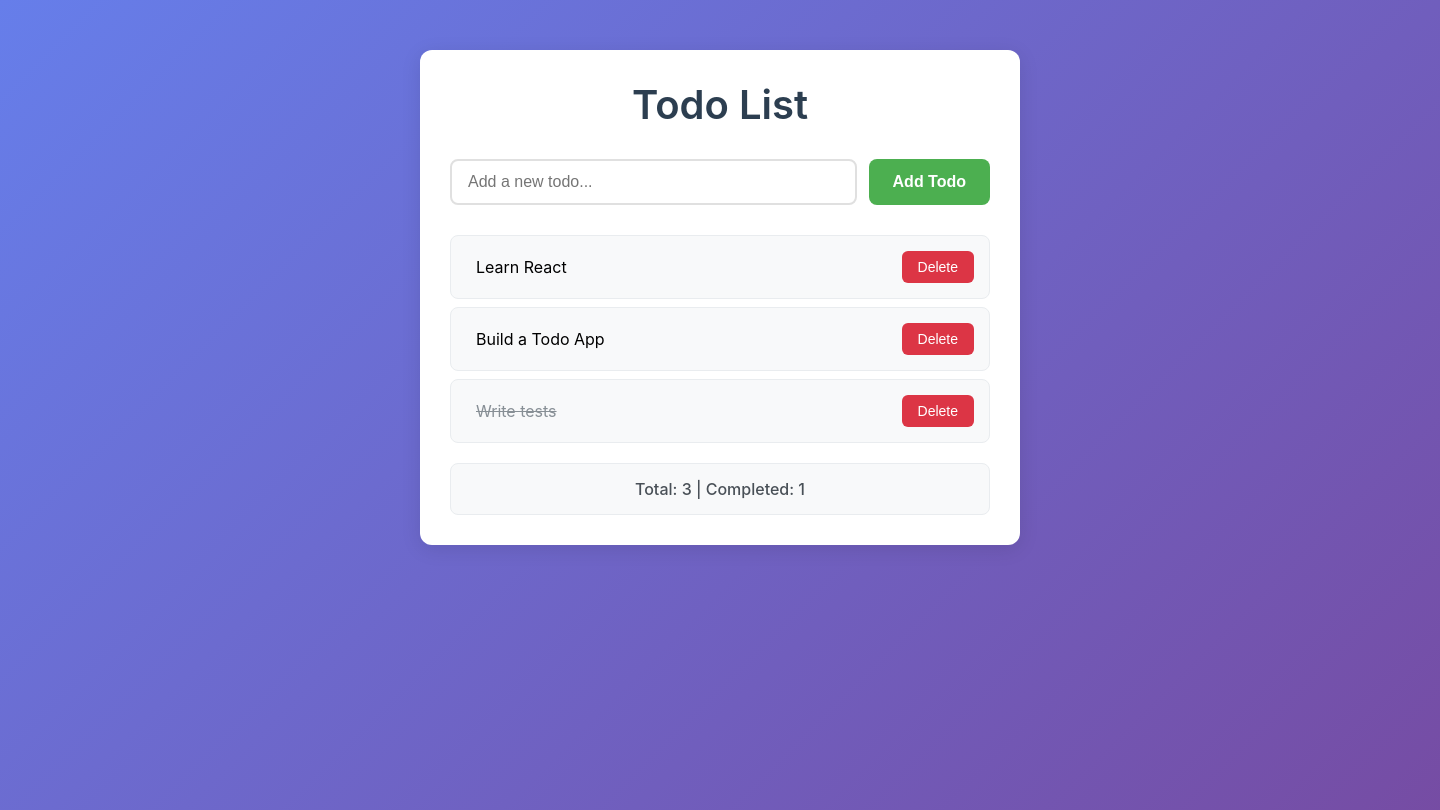
Test: TodoList Component › Adding Todos › updates stats after adding a todo
Type "New Todo" into the field with test id "todo-input" at coordinates (653, 182), box [450,159,856,205]
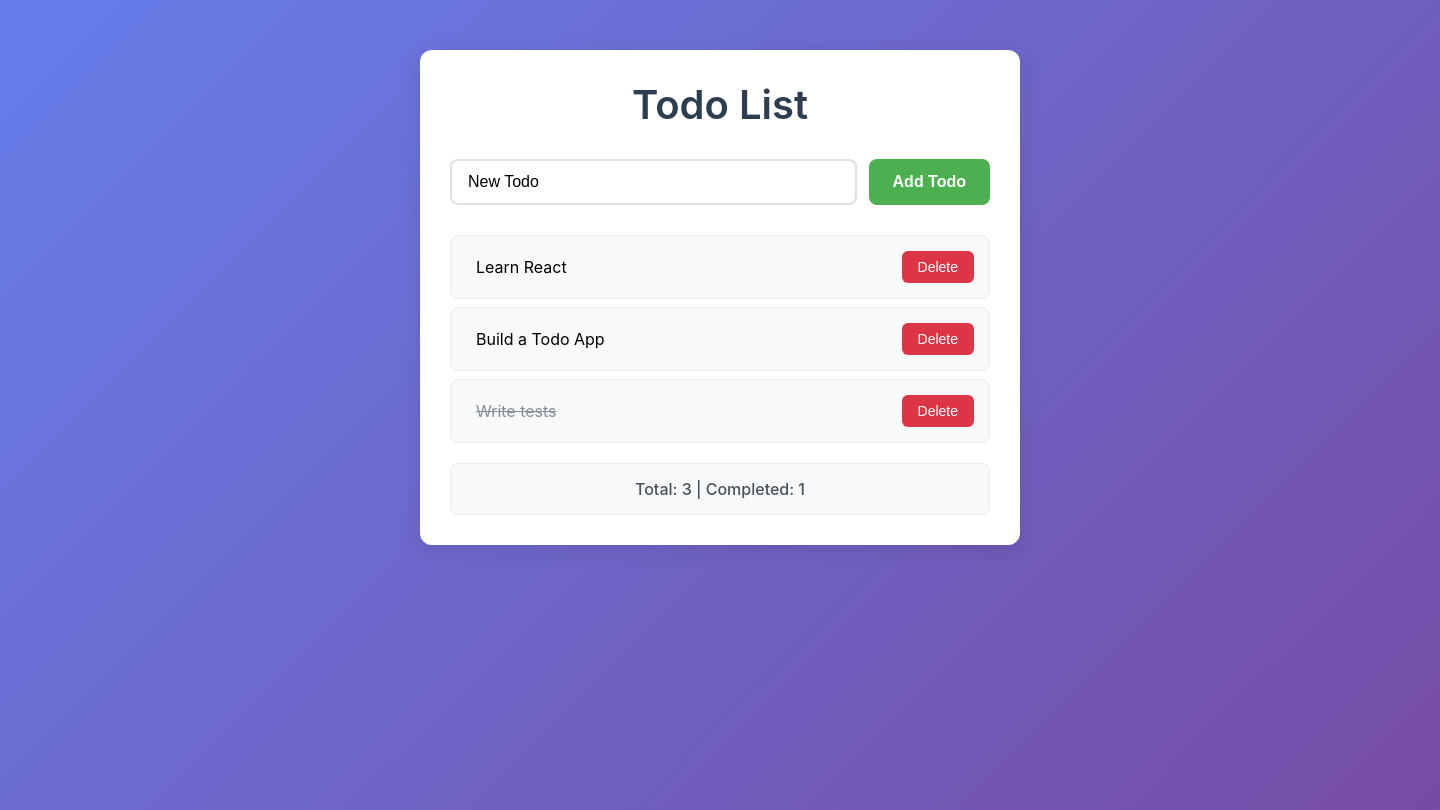
Click the button with test id "add-button" at coordinates (929, 182), box [868,159,990,205]
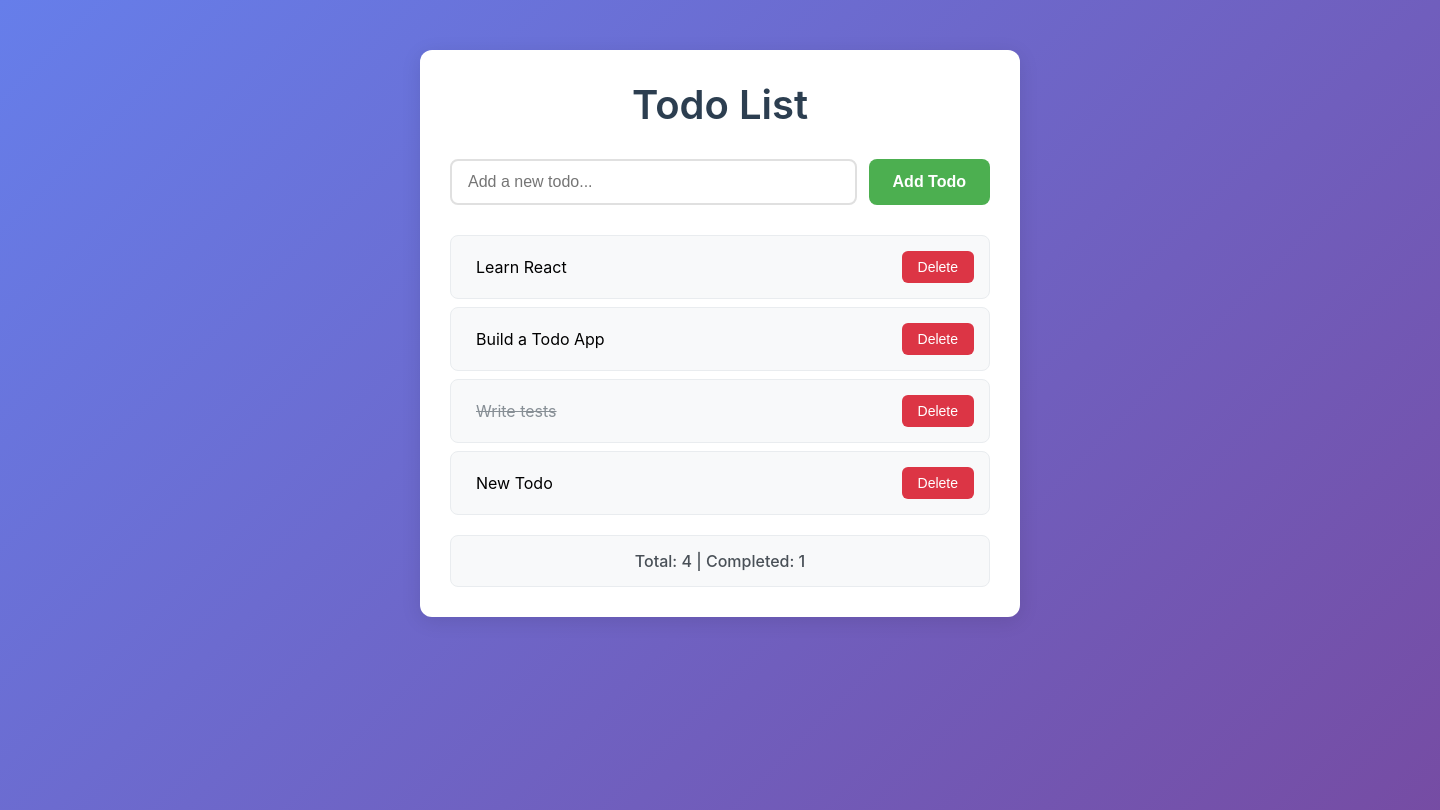
Expected: the text with test id "todo-stats" reads "Total: 4 | Completed: 1", [450,535,990,587]
